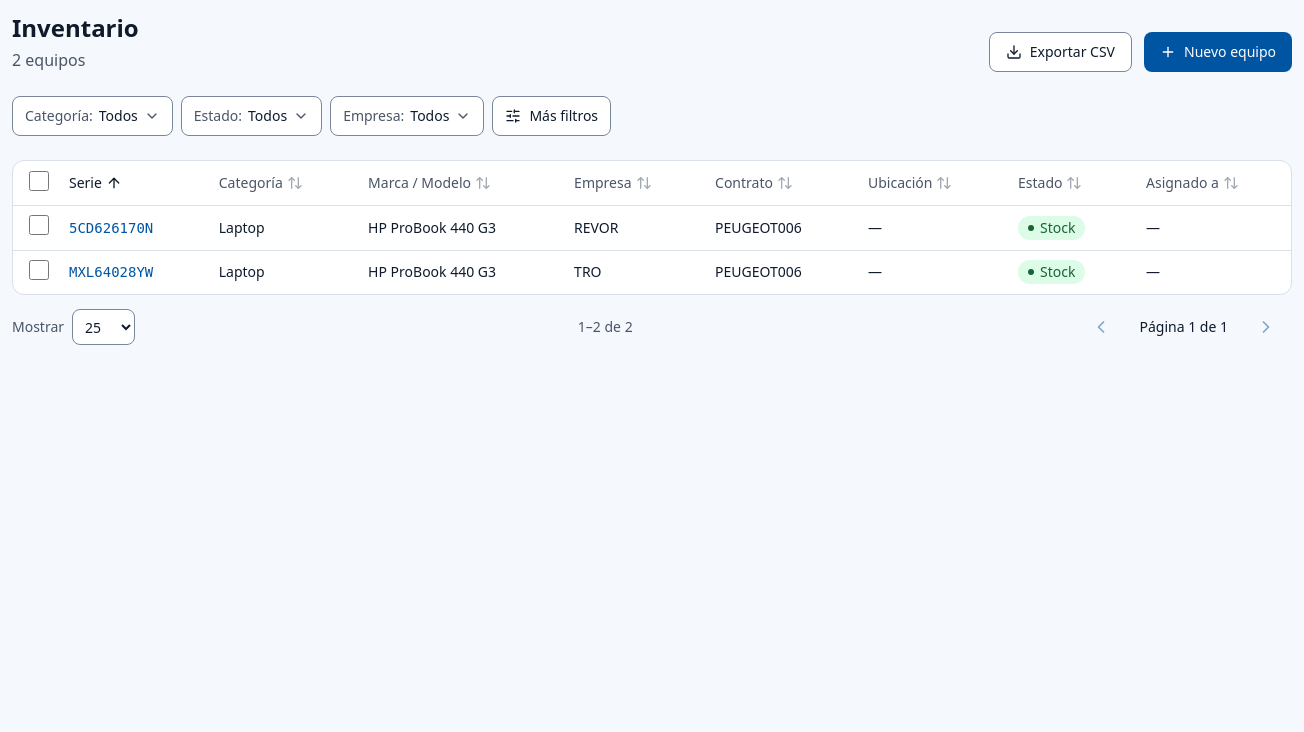
it: P-10 · Inventario › filtra varios estados en la URL y agrupa por empresa
Expected: the text "2 equipos" is shown, top-left (12, 49), bottom-right (85, 71)
Click the heading labelled "Estado: Todos": (251, 116) top-left (181, 96), bottom-right (322, 136)
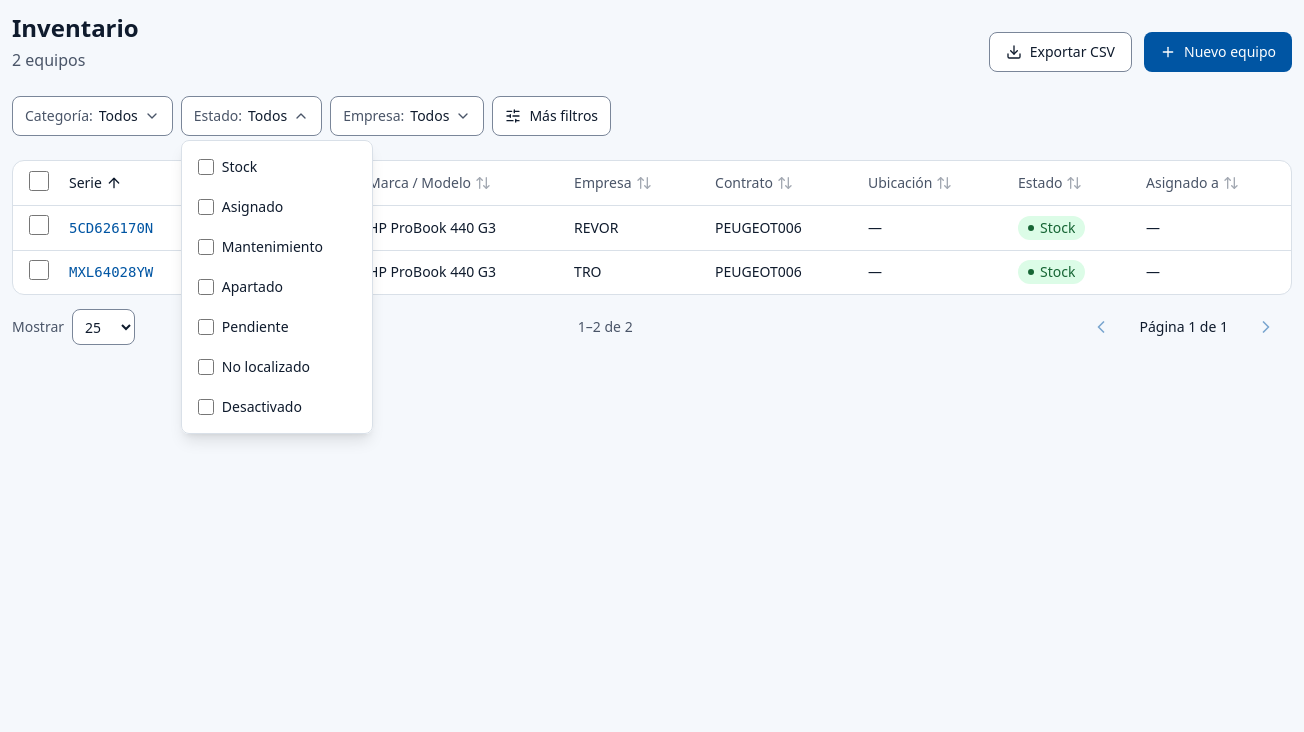
Click the checkbox labelled "Pendiente": (206, 327) top-left (198, 319), bottom-right (214, 335)
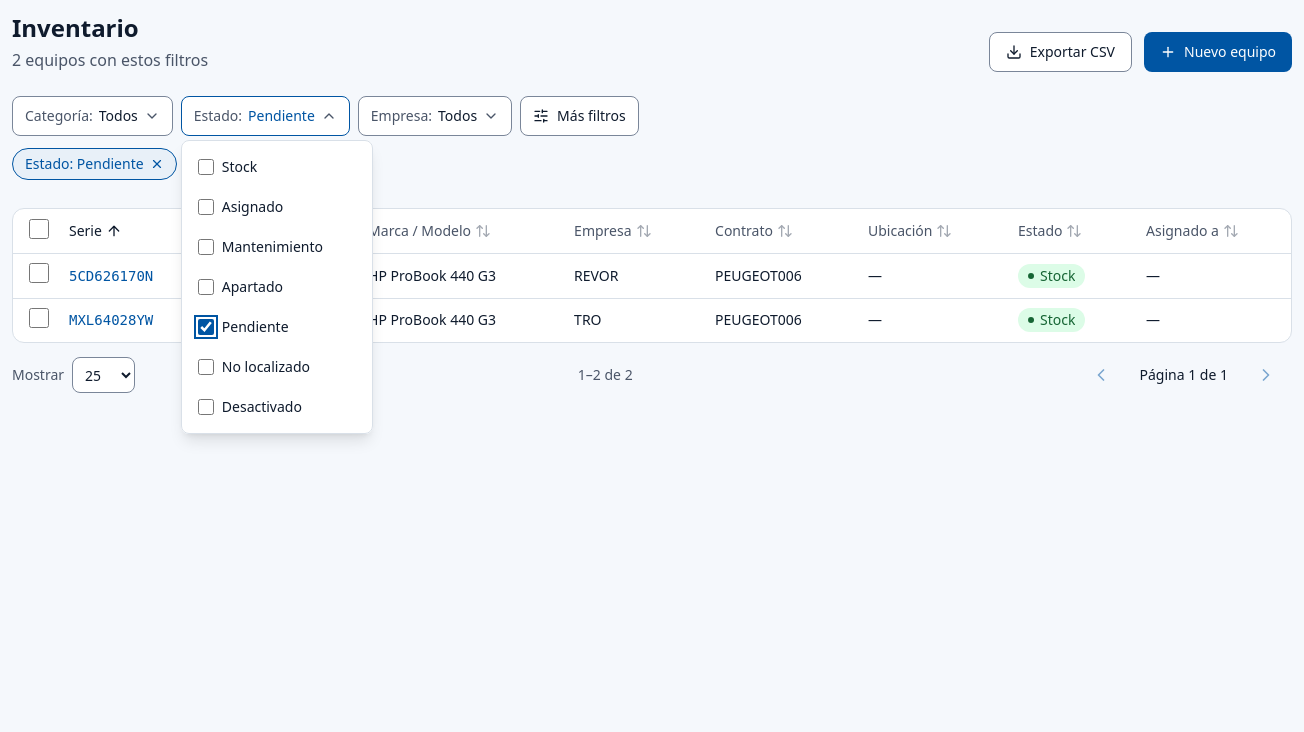
Click the checkbox labelled "Stock": (206, 167) top-left (198, 159), bottom-right (214, 175)
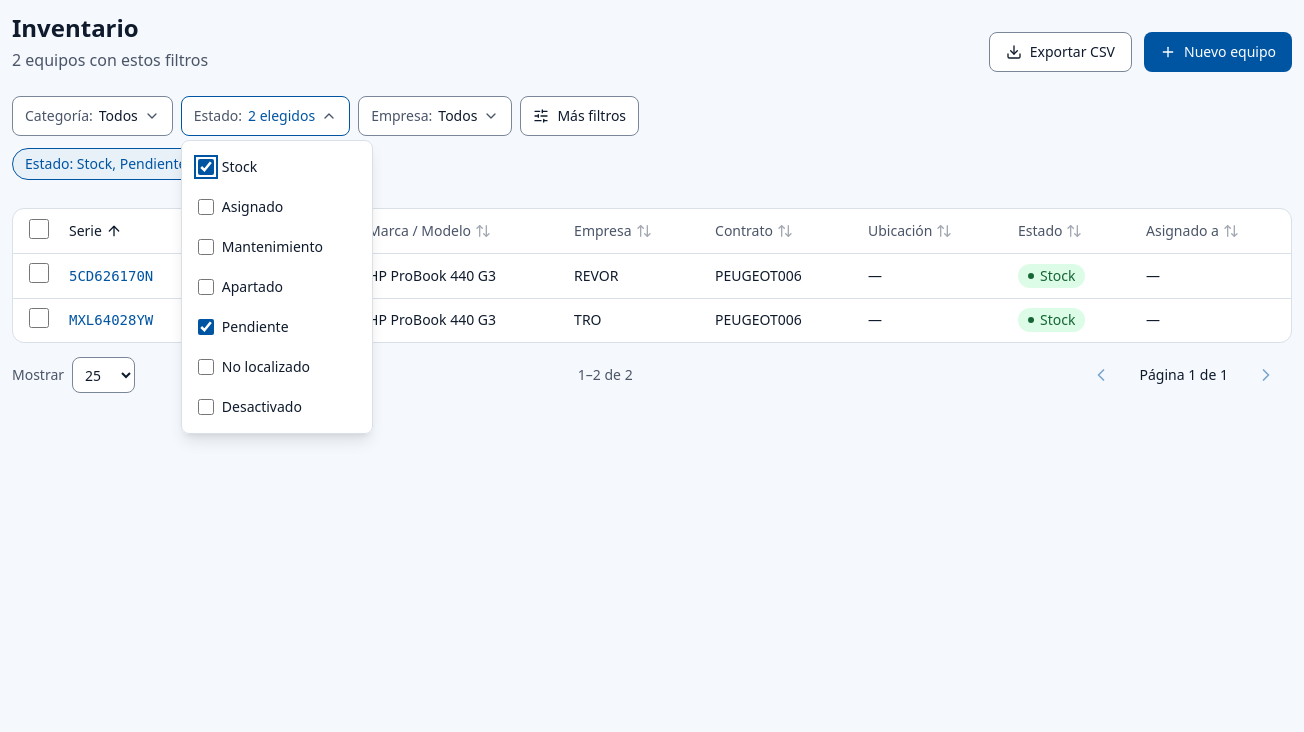
Expected: the button with aria-label "Quitar filtro Estado: Stock, Pendiente" is shown, top-left (12, 148), bottom-right (219, 180)
# «Agrupar» es secundario: está en «Más filtros».
Click the button "Más filtros": (580, 116) top-left (520, 96), bottom-right (639, 136)
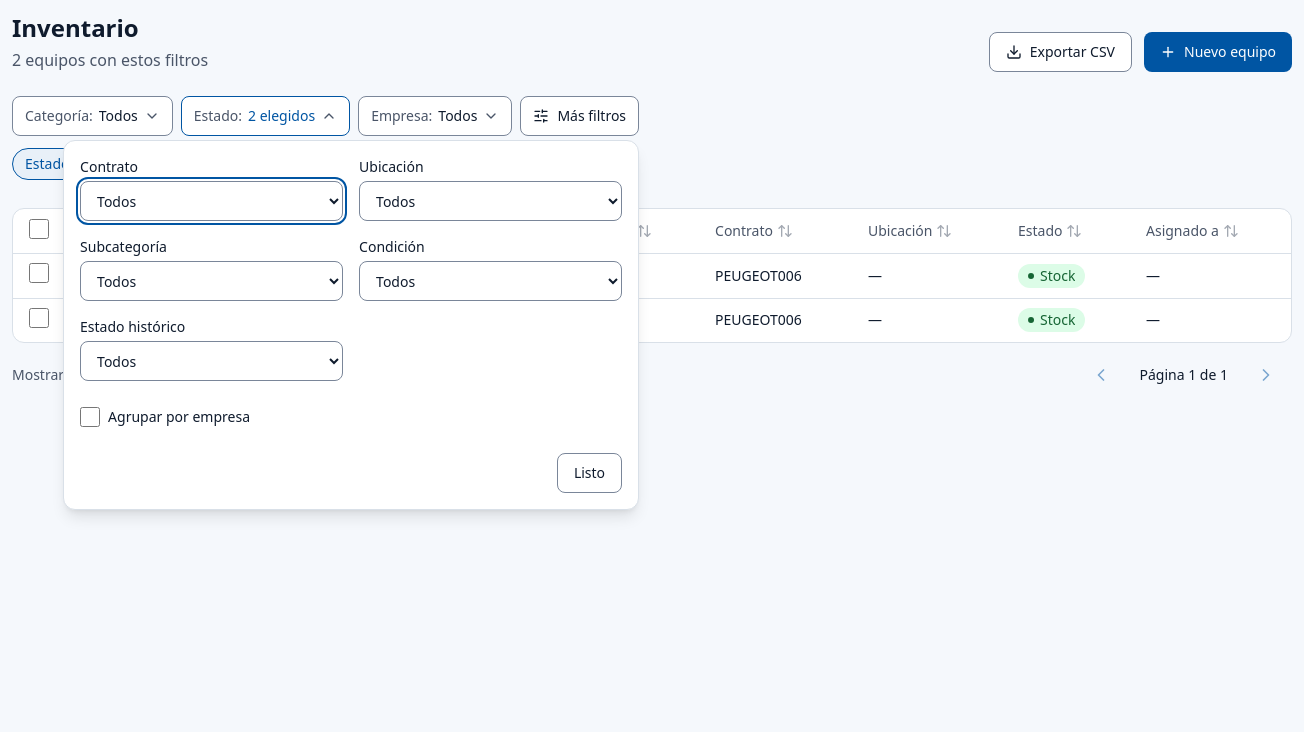
Click the checkbox labelled "Agrupar por empresa": (90, 417) top-left (80, 407), bottom-right (100, 427)
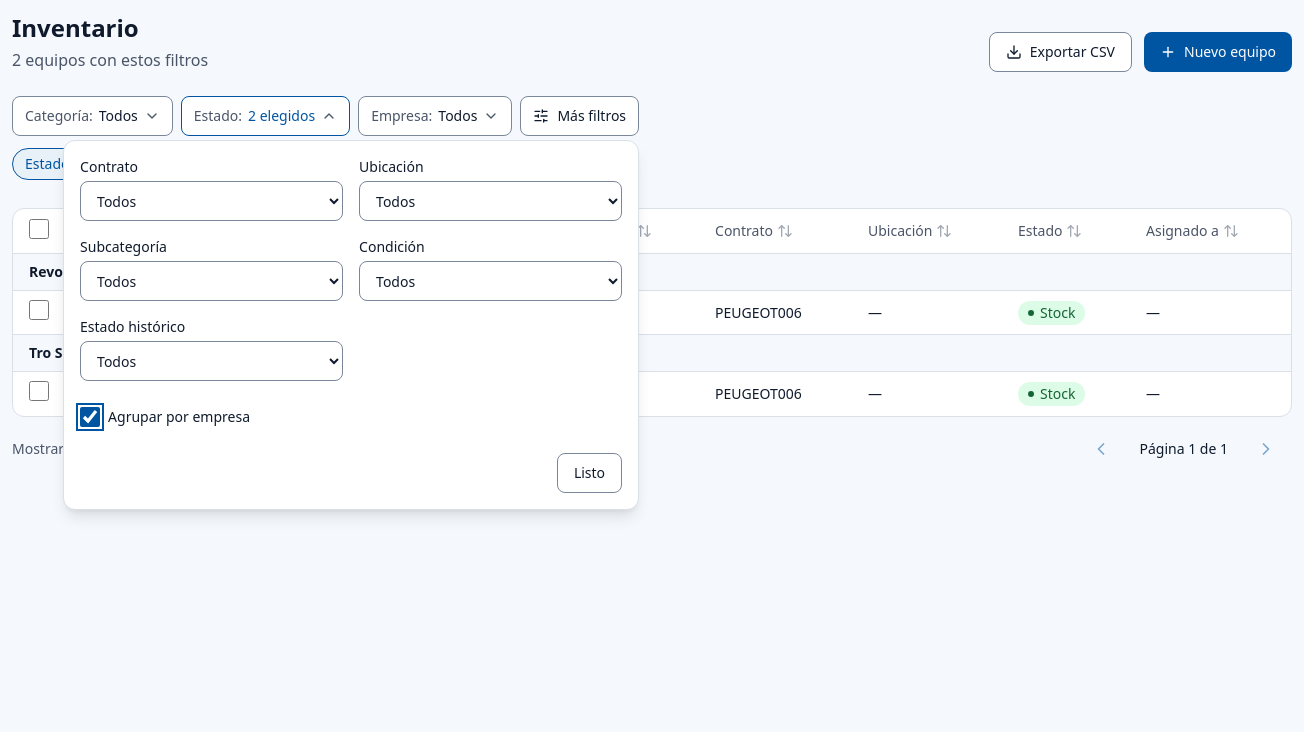
Expected: the column heading "Revor S.A." is shown, top-left (13, 254), bottom-right (1291, 290)
Expected: the column heading "Tro S.A." is shown, top-left (13, 334), bottom-right (1291, 372)
